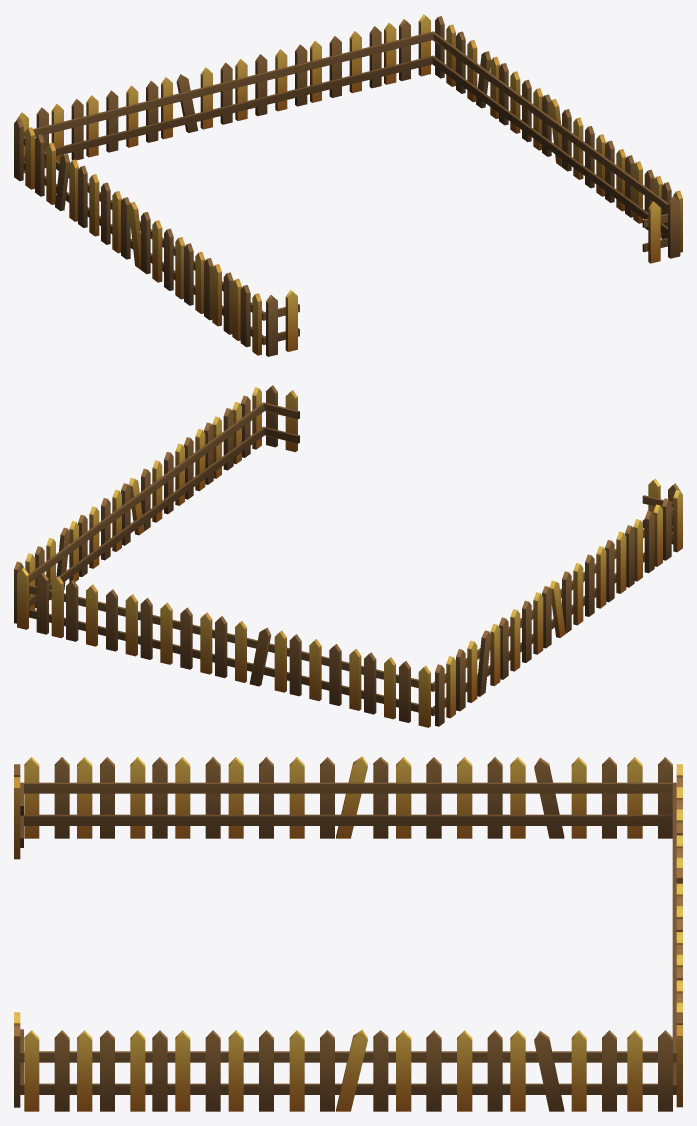
Rendered from Fence_02_Large.fbx.
The picture shows the model from 3 angles, top to bottom: view 1: azimuth 30°, elevation 25°; view 2: azimuth 150°, elevation 25°; view 3: azimuth 270°, elevation 25°; orthographic projection. The views are drawn at different scales.
Visible parts, largest first — view 1: Fence_02_Large; view 2: Fence_02_Large; view 3: Fence_02_Large.
Part boxes in pixels (left/top/right/bottom): Fence_02_Large: left=14, top=14, right=682, bottom=356; Fence_02_Large: left=14, top=385, right=682, bottom=727; Fence_02_Large: left=14, top=756, right=682, bottom=1111.
Bounding box in the file's own units: 754 × 102 × 773.
Materials: 1 (1 with a texture image).
